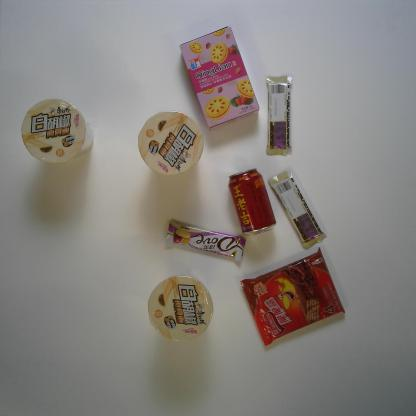Chocolate: (268, 170, 326, 251), (164, 218, 245, 263), (265, 75, 293, 156)
Dessert: (240, 248, 346, 348), (179, 26, 260, 132)
Drink: (227, 166, 277, 238)
Instant Noodles: (137, 110, 204, 177), (148, 275, 215, 342), (21, 98, 87, 164)
